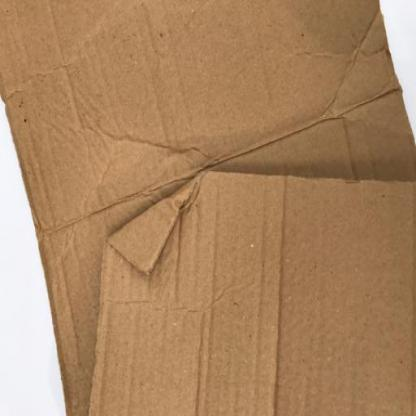CARDBOARD: (0, 0, 415, 415), (86, 168, 415, 415)
